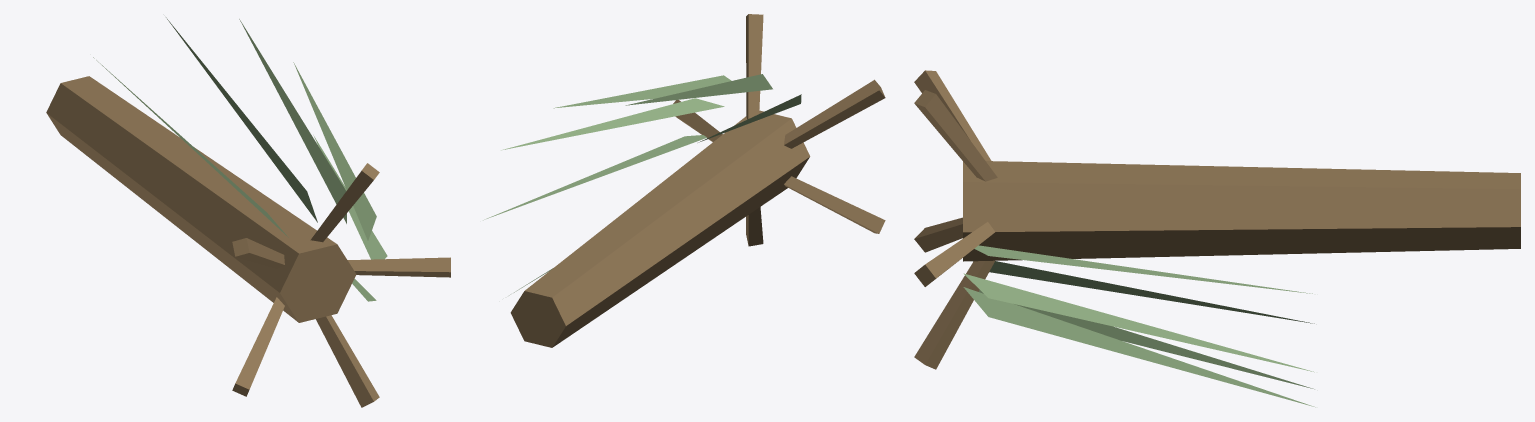
Rendered from willow_tree.glb.
The picture shows the model from 3 angles, left to right: view 1: azimuth 30°, elevation 25°; view 2: azimuth 150°, elevation 25°; view 3: azimuth 270°, elevation 25°; orthographic projection. The views are drawn at different scales.
Parts seen in each view (by area): view 1: geometry_0; view 2: geometry_0; view 3: geometry_0.
Boxes of the visible parts, bbox=[...] form: geometry_0: bbox=[46, 17, 450, 407]; geometry_0: bbox=[483, 14, 885, 347]; geometry_0: bbox=[914, 70, 1520, 407].
Bounding box in the file's own units: 1.56 × 1.56 × 2.39.
